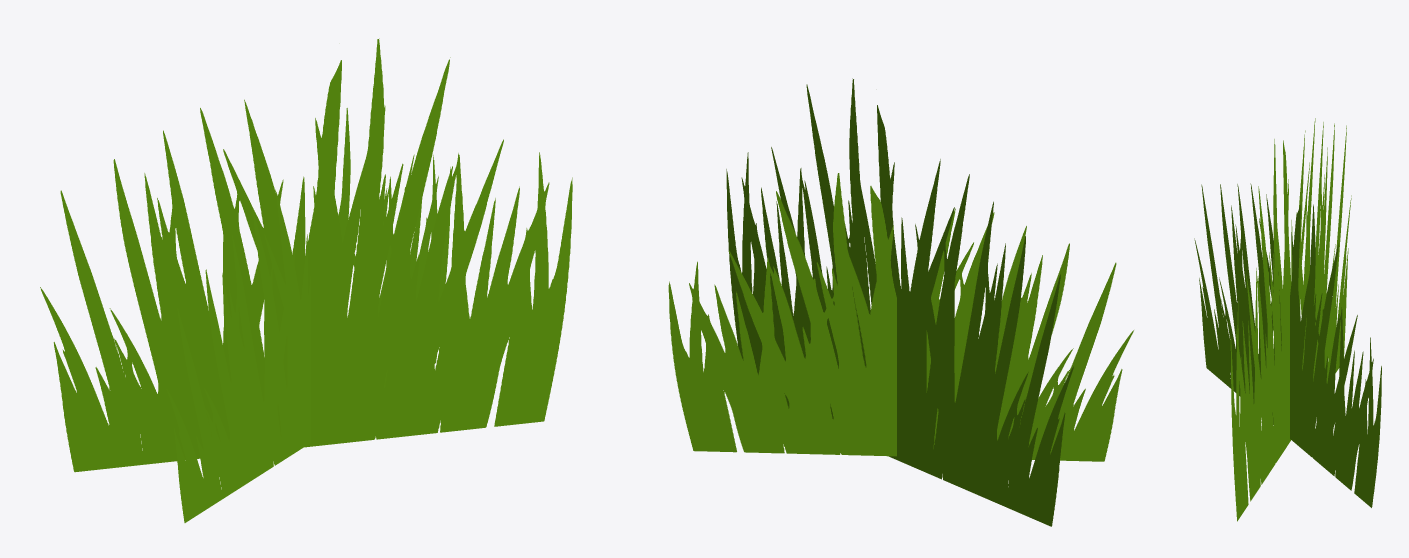
Rendered from ToonGrass_v1.3_Guilty.glb.
3 views of the same model, side by side, from view 1: azimuth 30°, elevation 25°; view 2: azimuth 150°, elevation 25°; view 3: azimuth 270°, elevation 25° (orthographic). The views are drawn at different scales.
Parts seen in each view (by area): view 1: Plane; view 2: Plane; view 3: Plane.
Boxes of the visible parts, x1,y1,x2,y2 form: Plane: (40,38,572,522); Plane: (668,78,1133,526); Plane: (1194,118,1381,521).
Bounding box in the file's own units: 1.01 × 0.7551 × 0.4387.
Materials: 1 (1 with a texture image).
